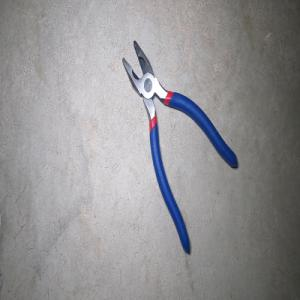Pliers: (122, 40, 237, 254)
